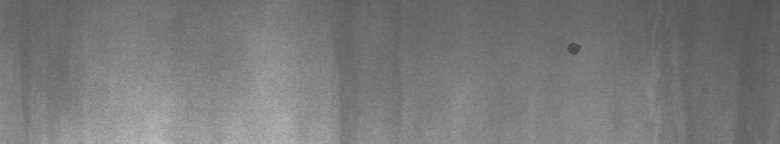fi: (564, 36, 585, 60)
